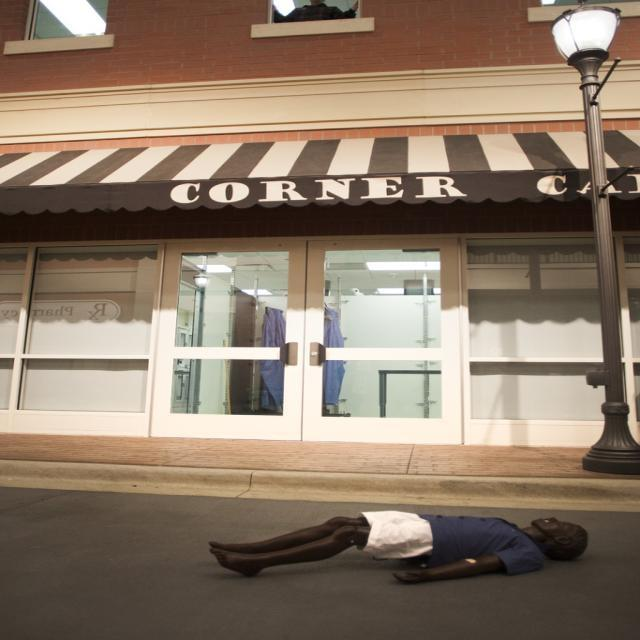door: (158, 241, 462, 448)
